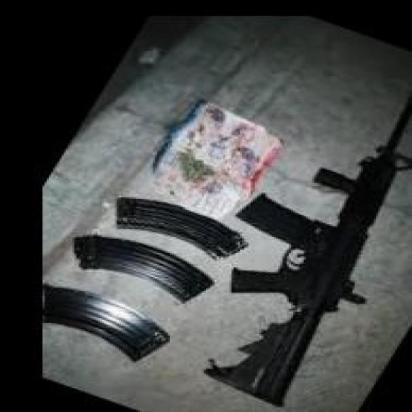Gun: (202, 93, 412, 408)
